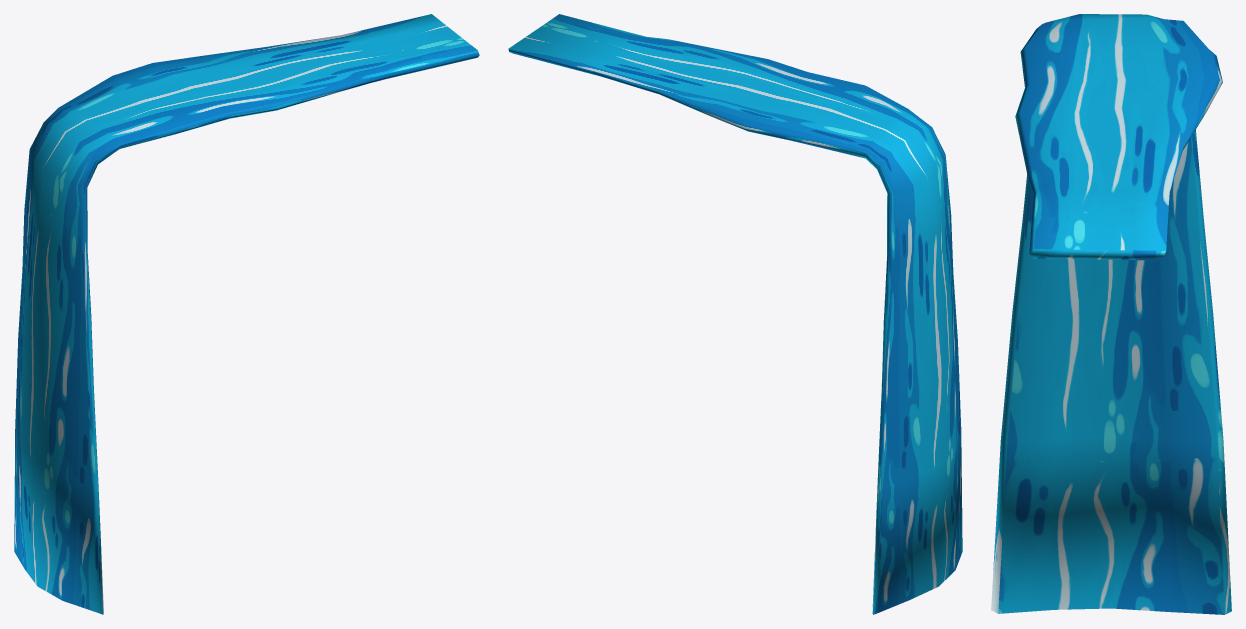
The model's file is Riu001.FBX.
The picture shows the model from 3 angles, left to right: view 1: azimuth 30°, elevation 25°; view 2: azimuth 150°, elevation 25°; view 3: azimuth 270°, elevation 25°; orthographic projection. The views are drawn at different scales.
Visible parts, largest first — view 1: Box001; view 2: Box001; view 3: Box001.
Boxes of the visible parts, x1,y1,x2,y2 form: Box001: (14,14,479,614); Box001: (508,14,962,614); Box001: (991,14,1231,614).
Bounding box in the file's own units: 4696 × 4943 × 1734.
